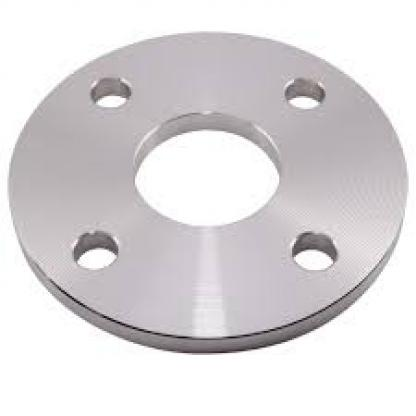FOD: (2, 23, 414, 362)
